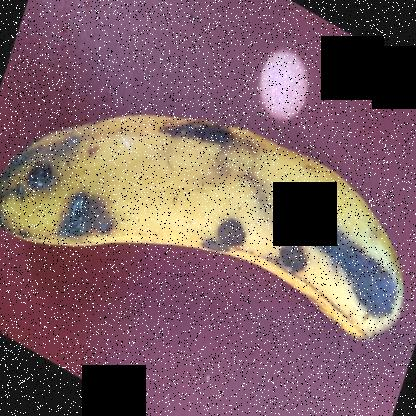overripe: (1, 105, 410, 348)
